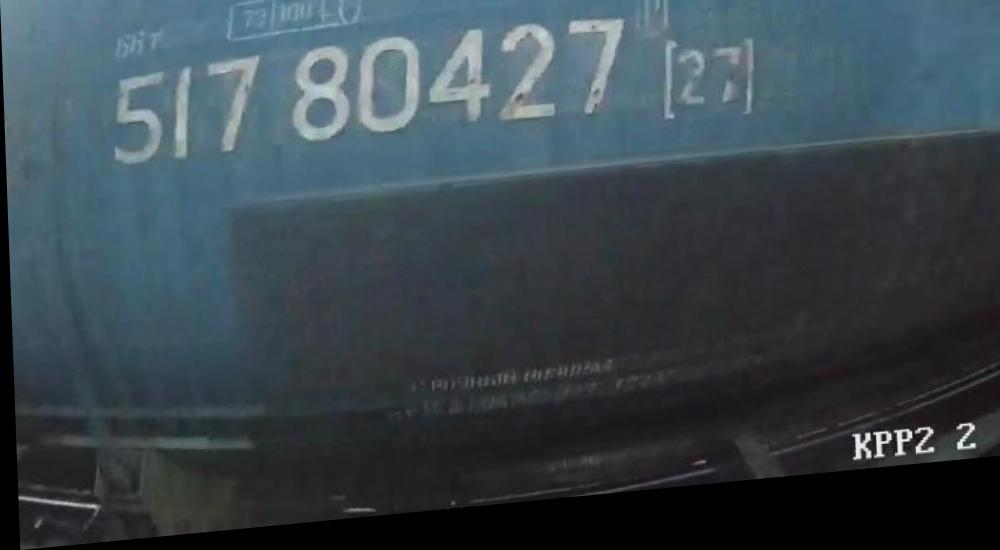Wagon-number: (106, 18, 634, 174)
